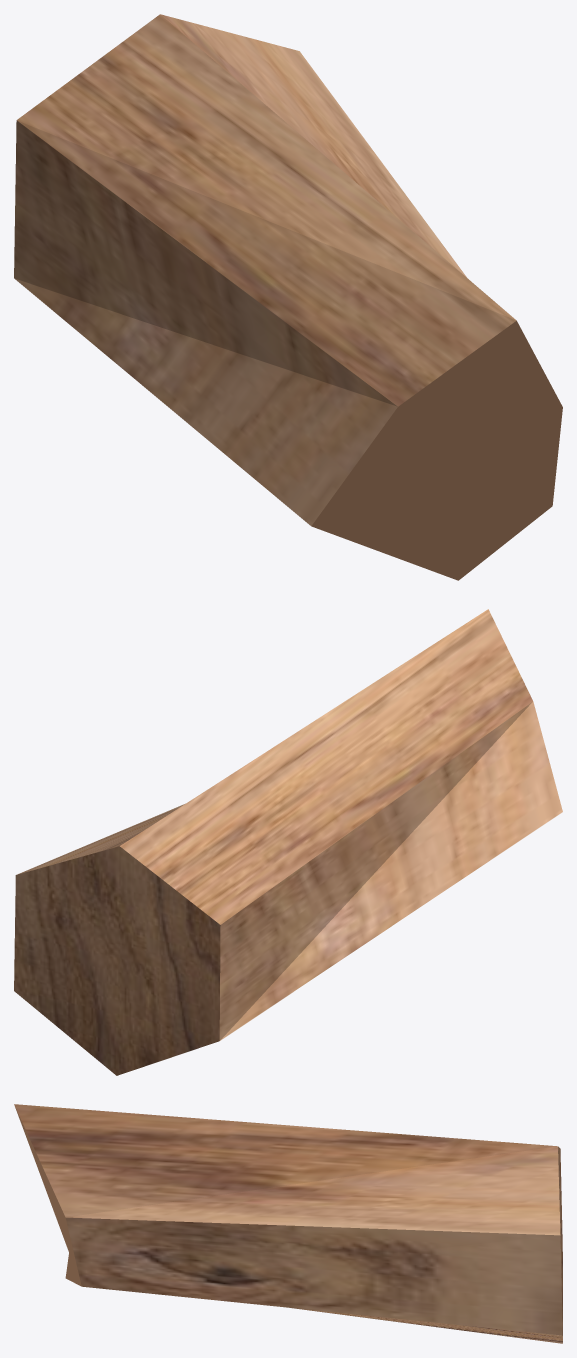
File: right_shoulder.gltf
3 views of the same model, one above another, from view 1: azimuth 30°, elevation 25°; view 2: azimuth 150°, elevation 25°; view 3: azimuth 270°, elevation 25° (orthographic). The views are drawn at different scales.
Visible parts, largest first — view 1: Cylinder.002_Brown_0.001; view 2: Cylinder.002_Brown_0.001; view 3: Cylinder.002_Brown_0.001.
Part boxes in pixels (x1,y1,x2,y2): Cylinder.002_Brown_0.001: (14,14,562,580); Cylinder.002_Brown_0.001: (14,609,562,1075); Cylinder.002_Brown_0.001: (14,1104,562,1343).
Bounding box in the file's own units: 18.3 × 16.14 × 37.14.
2 materials, 1 textured.
